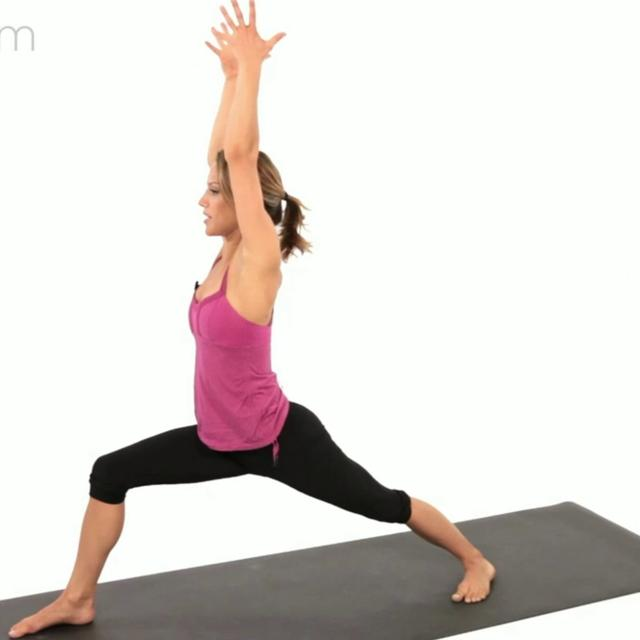Warrior_I: (1, 1, 499, 639)
